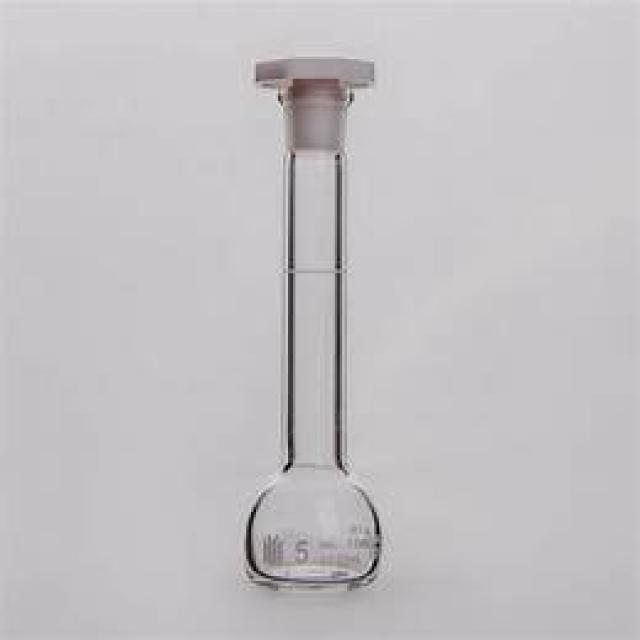Volumetric flask: (219, 52, 392, 592)
